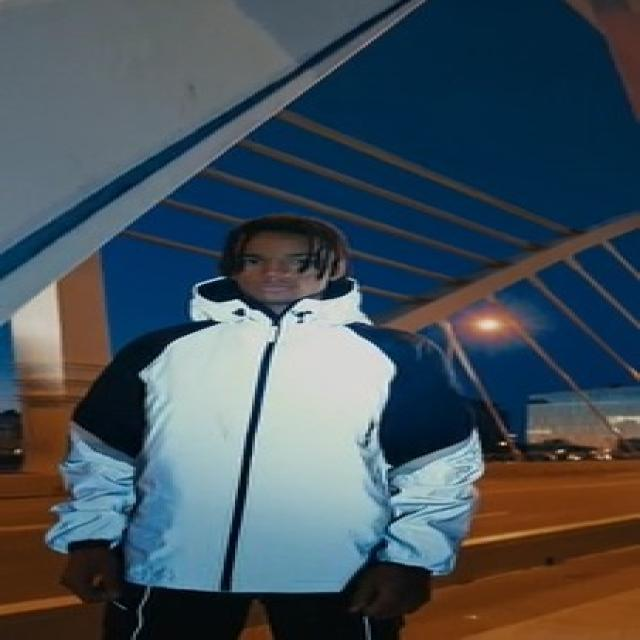Jacket_Wearer: (66, 316, 490, 636)
Person: (80, 217, 492, 619)
